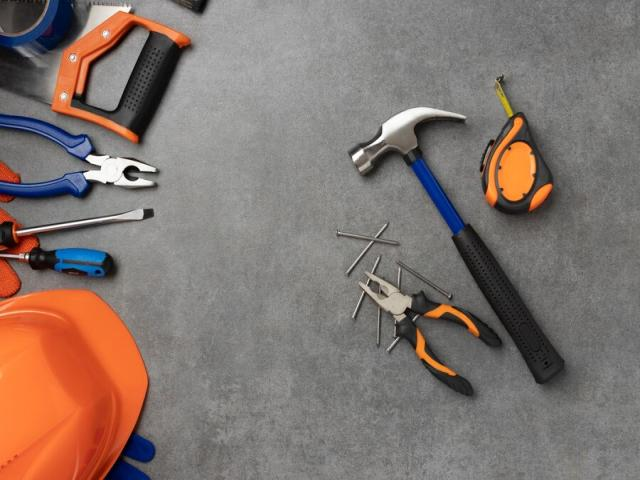Hammer: (349, 108, 564, 384)
Handsaw: (0, 3, 190, 143)
Pliers: (359, 271, 501, 396), (0, 115, 158, 197)
Screwdriver: (0, 210, 154, 247), (0, 248, 114, 276)
Tape measure: (481, 76, 552, 214)
